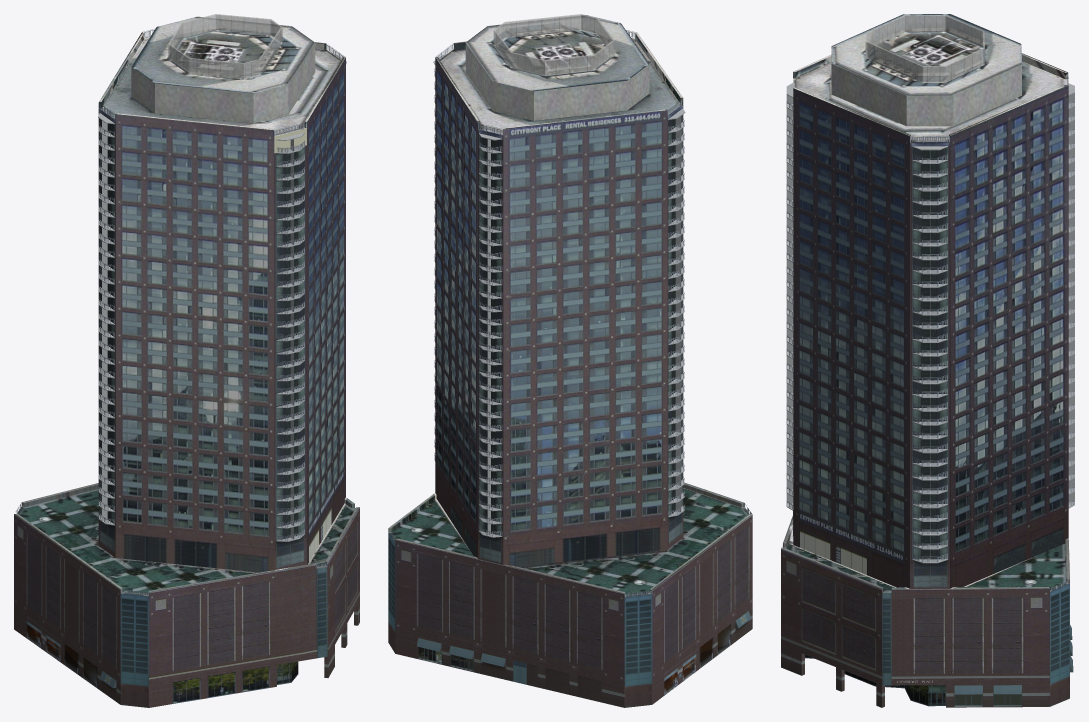
Rendered from Cityfront-Place.fbx.
3 views of the same model, side by side, from view 1: azimuth 30°, elevation 25°; view 2: azimuth 150°, elevation 25°; view 3: azimuth 270°, elevation 25° (orthographic). The views are drawn at different scales.
Visible parts, largest first — view 1: Model; view 2: Model; view 3: Model.
Boxes of the visible parts, left/top/right/bottom form: Model: left=14, top=14, right=359, bottom=707; Model: left=388, top=14, right=752, bottom=707; Model: left=781, top=14, right=1073, bottom=707.
Bounding box in the file's own units: 2168 × 4512 × 1963.
